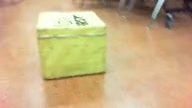cube: (36, 10, 108, 81)
